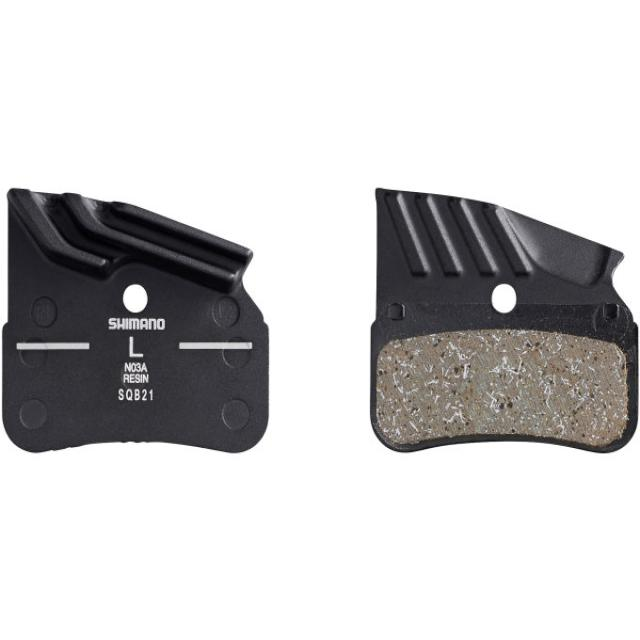brake_pad: (0, 194, 296, 457), (372, 176, 640, 462)
